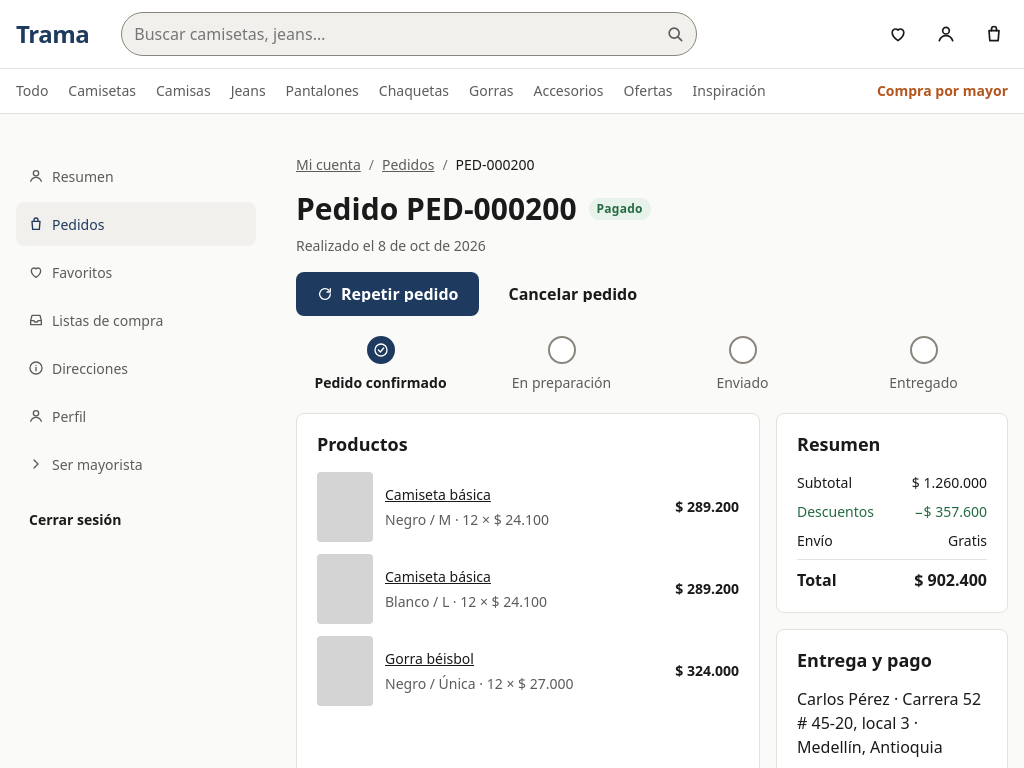
Test: Pedidos y recompra › cancelar un pedido pagado con motivo
This screenshot has width=1024, height=768.
Click the button "Cancelar pedido" at {"x": 573, "y": 294}, box [488,272,658,316]
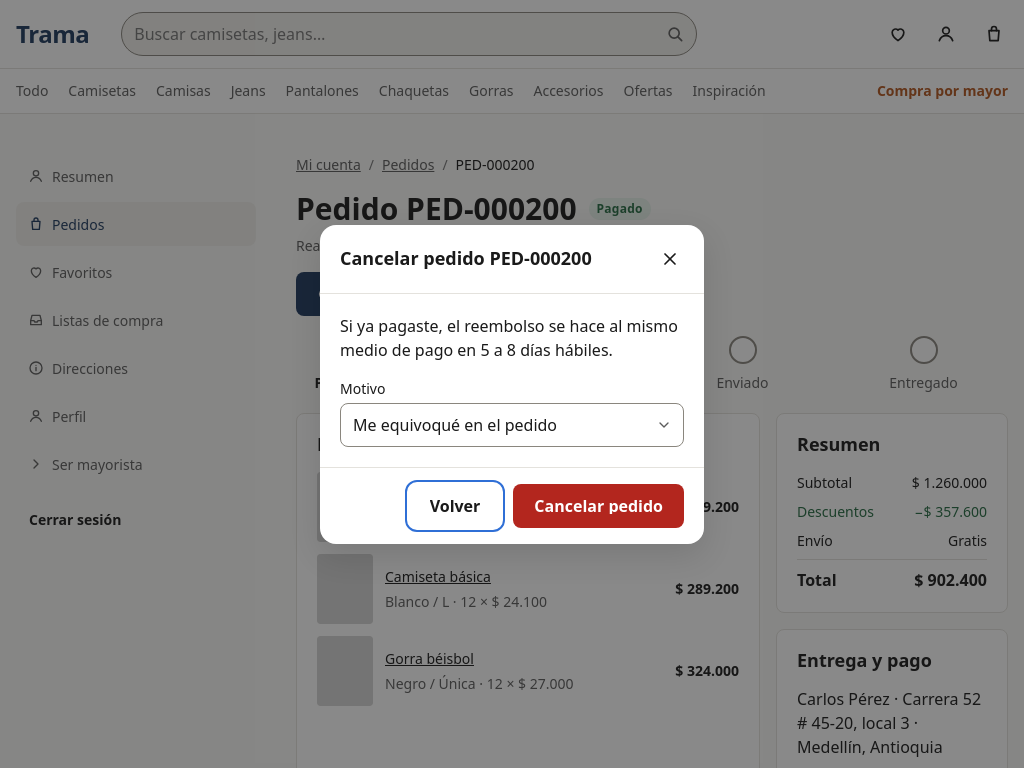
Select "Ya no lo necesito" in the dropdown labelled "Motivo" at {"x": 512, "y": 424}, box [340,402,684,446]
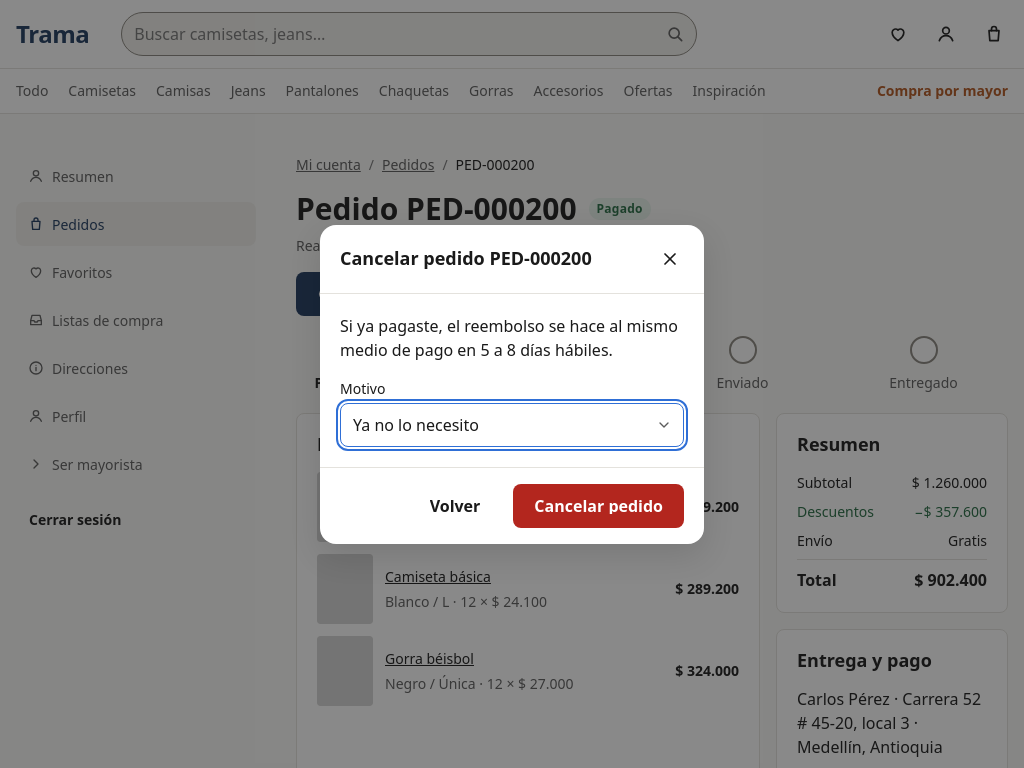
Click the button "Cancelar pedido" at {"x": 599, "y": 506}, box [513,484,684,528]
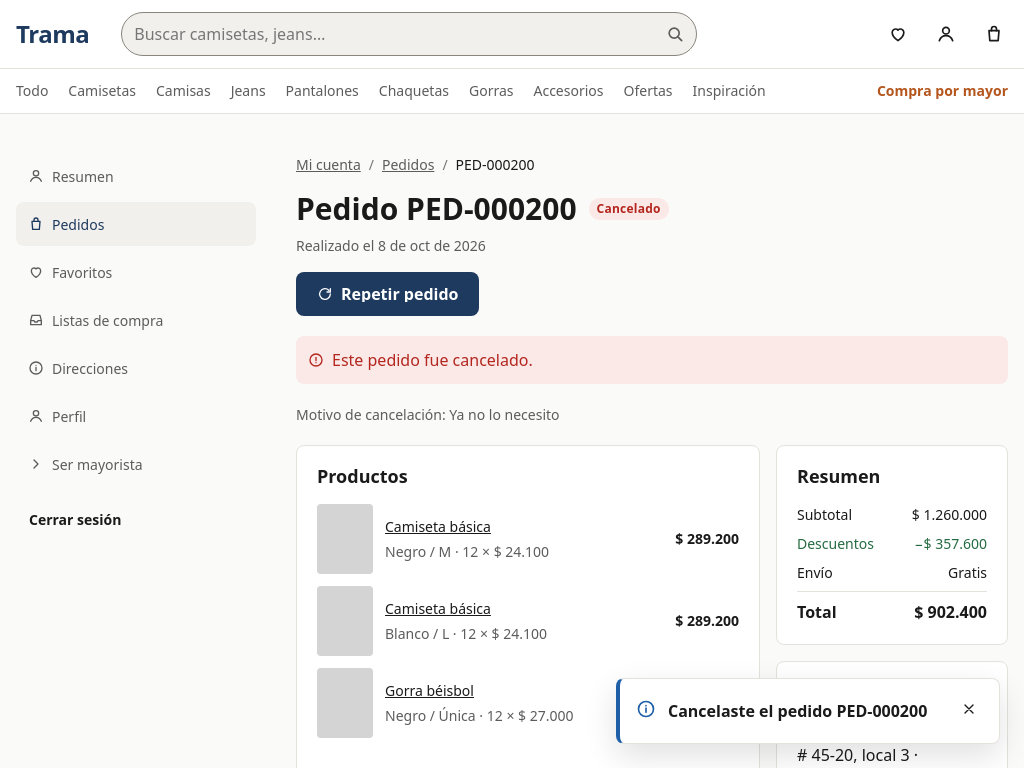
Result: the text "Este pedido fue cancelado." is shown at [296,336,1008,384]
Result: the text "Motivo de cancelación: Ya no lo necesito" is shown at [296,405,560,424]
